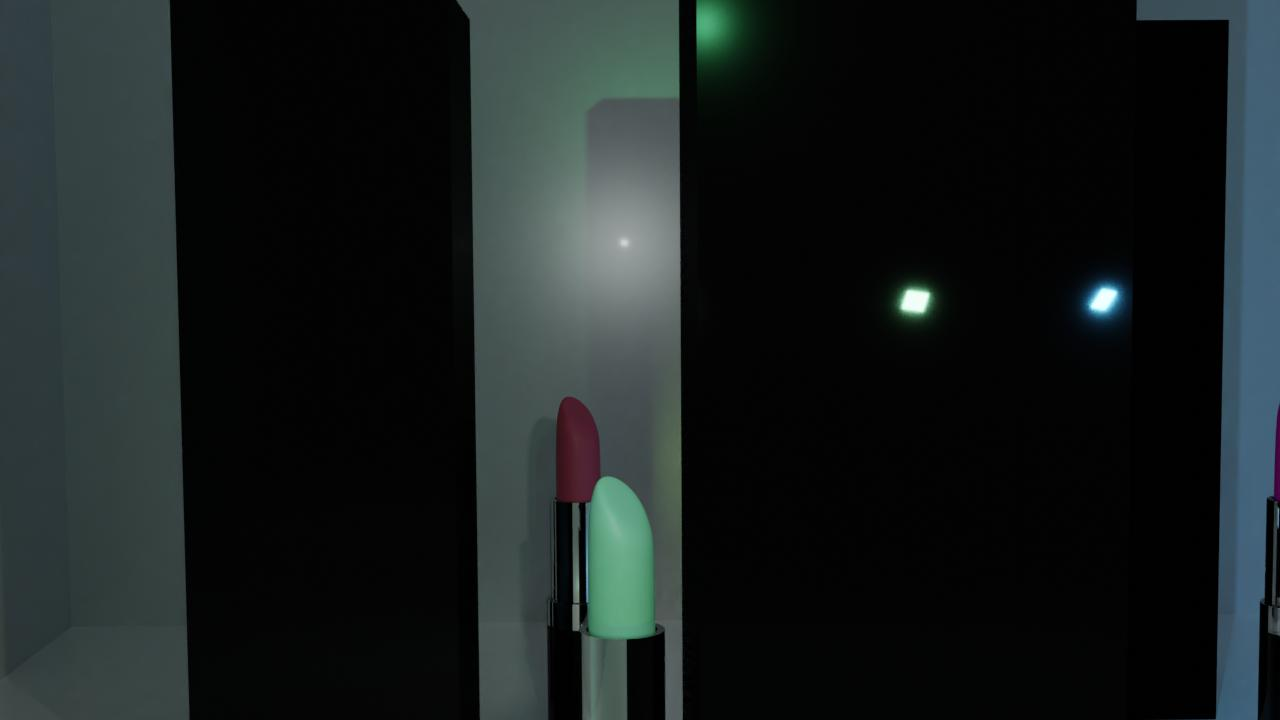CLASSIFIER_NAME: (573, 470, 674, 720), (546, 392, 614, 720), (1255, 389, 1280, 720)
